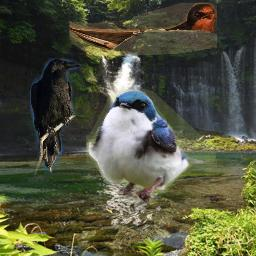Crow: (30, 58, 82, 175)
Swallow: (86, 89, 217, 204), (69, 2, 217, 55)
